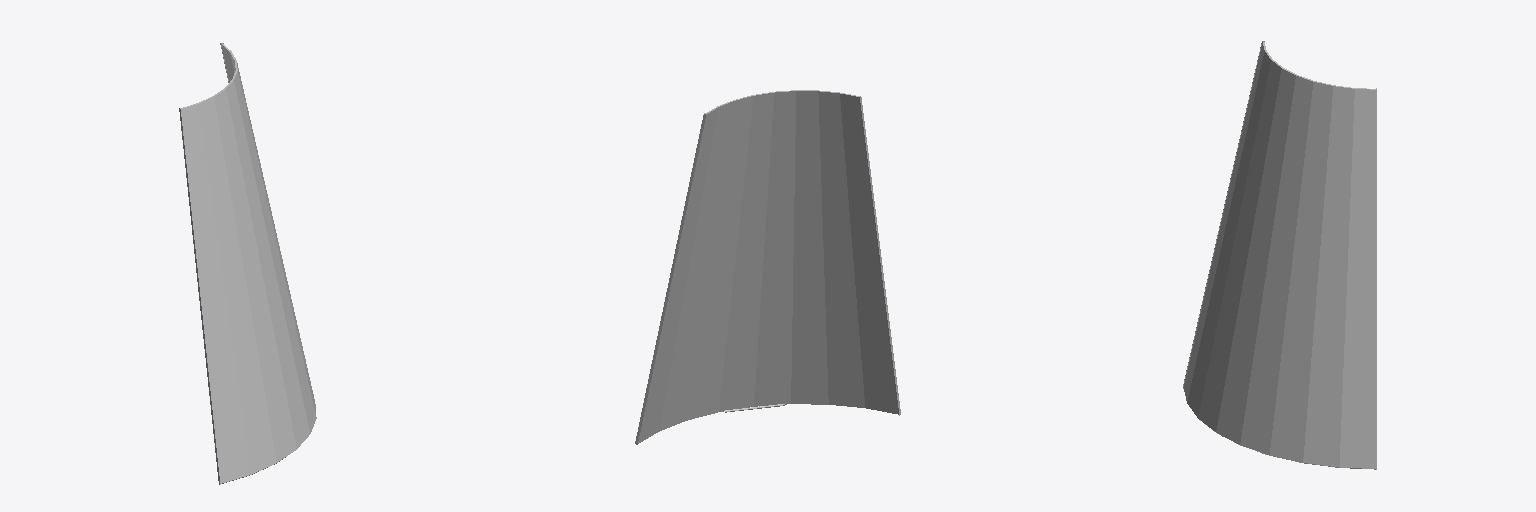
The model's file is Saturn V_4_3.obj.
3 renders of one model, left to right at view 1: azimuth 30°, elevation 25°; view 2: azimuth 150°, elevation 25°; view 3: azimuth 270°, elevation 25°, orthographic.
Visible parts, largest first — view 1: LEM_Fairing.001_Cylinder.018; view 2: LEM_Fairing.001_Cylinder.018; view 3: LEM_Fairing.001_Cylinder.018.
Part boxes in pixels (x1,y1,x2,y2): LEM_Fairing.001_Cylinder.018: (179, 43, 316, 484); LEM_Fairing.001_Cylinder.018: (635, 90, 900, 444); LEM_Fairing.001_Cylinder.018: (1183, 41, 1376, 469).
Bounding box in the file's own units: 3.31 × 6.54 × 3.31.